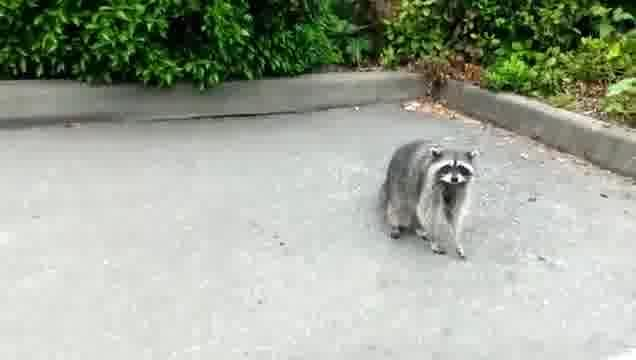raccoon: (380, 139, 480, 261)
